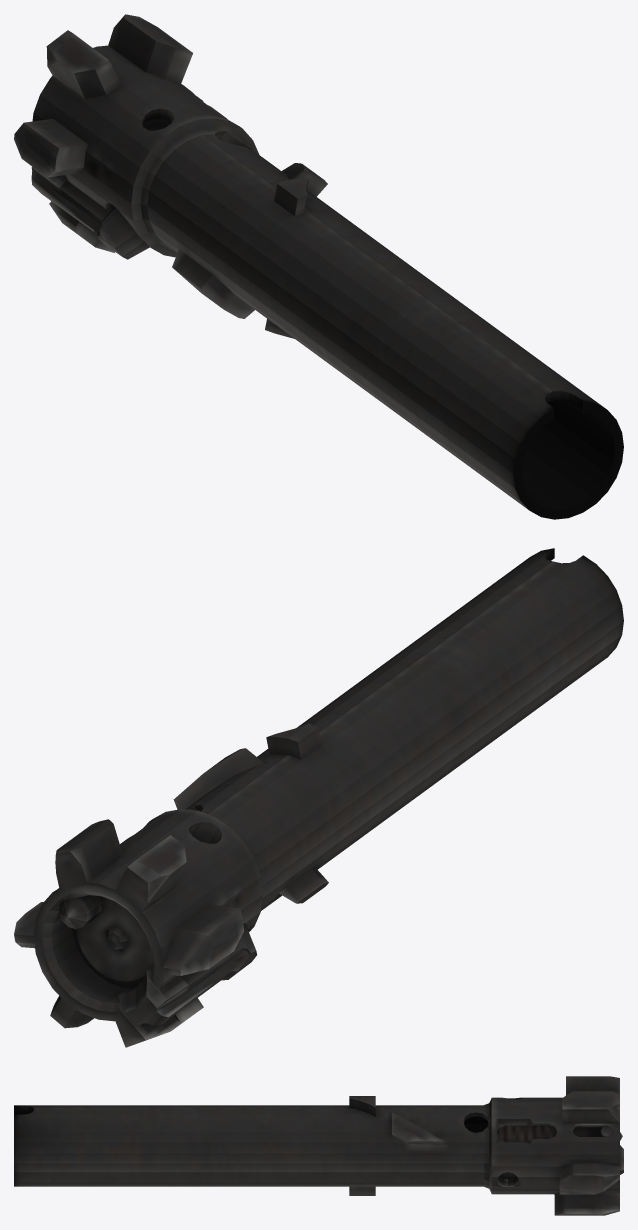
3 renders of one model, top to bottom at view 1: azimuth 30°, elevation 25°; view 2: azimuth 150°, elevation 25°; view 3: azimuth 270°, elevation 25°, orthographic. The views are drawn at different scales.
Visible parts, largest first — view 1: TW_651450ce0e00edc794068371_PZ_Import; view 2: TW_651450ce0e00edc794068371_PZ_Import; view 3: TW_651450ce0e00edc794068371_PZ_Import.
Boxes of the visible parts, x1=… form: TW_651450ce0e00edc794068371_PZ_Import: x1=14, y1=14, x2=623, y2=519; TW_651450ce0e00edc794068371_PZ_Import: x1=14, y1=548, x2=623, y2=1047; TW_651450ce0e00edc794068371_PZ_Import: x1=14, y1=1076, x2=623, y2=1215.
Bounding box in the file's own units: 0.0124 × 0.0544 × 0.0121.
1 material, 1 textured.
